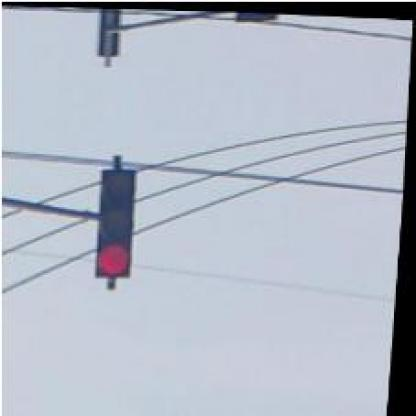red: (96, 167, 140, 276)
